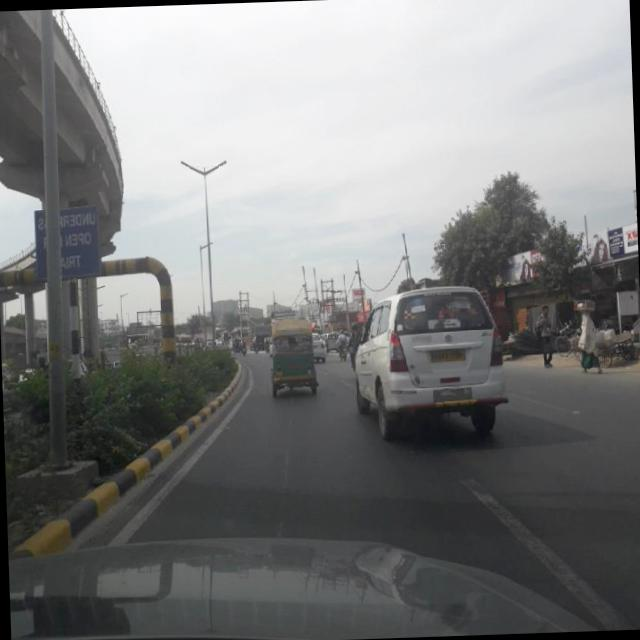pothole: (262, 398, 304, 532)
